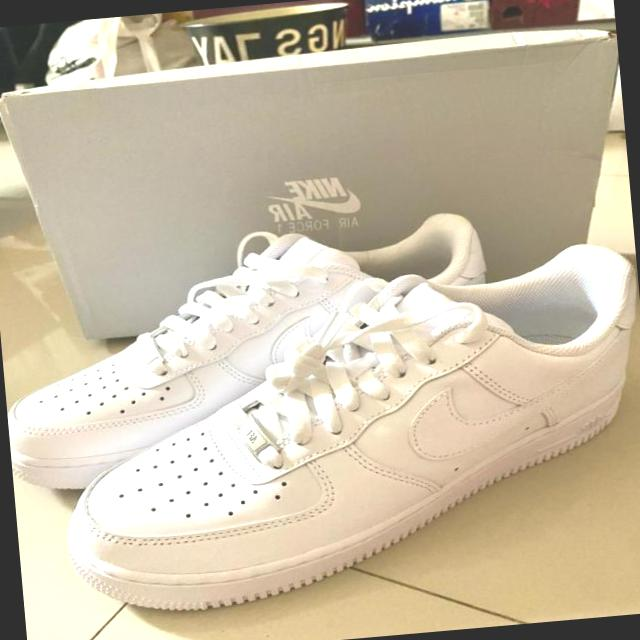nike_original_airforce: (43, 239, 640, 624), (0, 209, 499, 494)
